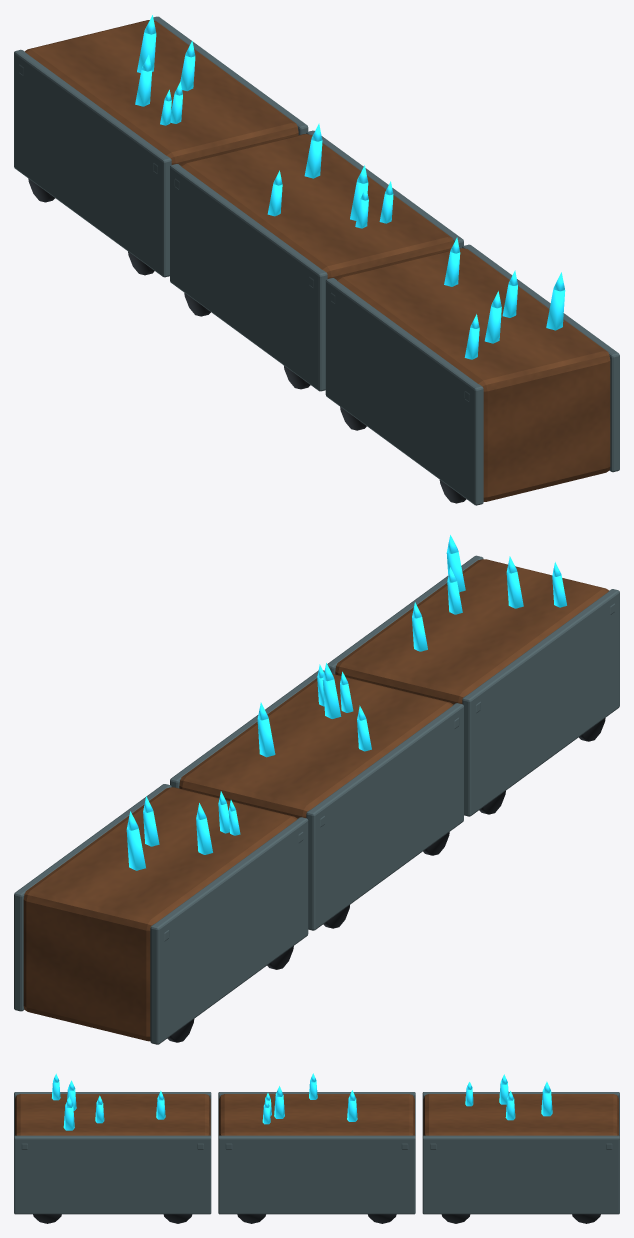
The model's file is ore_train.glb.
The picture shows the model from 3 angles, top to bottom: view 1: azimuth 30°, elevation 25°; view 2: azimuth 150°, elevation 25°; view 3: azimuth 270°, elevation 25°; orthographic projection. The views are drawn at different scales.
Parts seen in each view (by area): view 1: ore_train; view 2: ore_train; view 3: ore_train.
Boxes of the visible parts, bbox=[...] form: ore_train: bbox=[14, 15, 619, 505]; ore_train: bbox=[14, 535, 619, 1044]; ore_train: bbox=[14, 1073, 619, 1223].
Size of the model in its own units: 1.95 by 2.4 by 10.68.
Materials: 4 (1 with a texture image).
